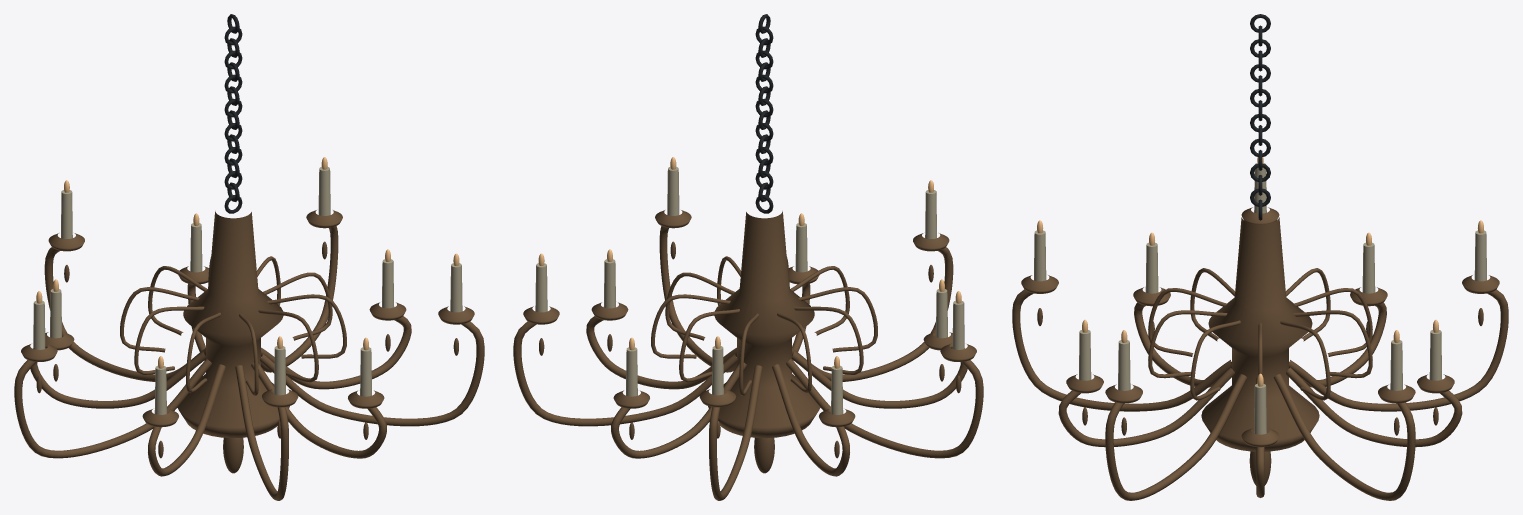
Rendered from aged-chandelier.glb.
The picture shows the model from 3 angles, left to right: view 1: azimuth 30°, elevation 25°; view 2: azimuth 150°, elevation 25°; view 3: azimuth 270°, elevation 25°; orthographic projection. The views are drawn at different scales.
Visible parts, largest first — view 1: curved-candle-arm (×10), aged-chandelier; view 2: curved-candle-arm (×10), aged-chandelier; view 3: curved-candle-arm (×10), aged-chandelier.
Part boxes in pixels (<box>): curved-candle-arm (×10): <box>14,157,484,500</box>; aged-chandelier: <box>177,14,289,473</box>; curved-candle-arm (×10): <box>513,157,983,500</box>; aged-chandelier: <box>708,14,820,473</box>; curved-candle-arm (×10): <box>1012,157,1508,500</box>; aged-chandelier: <box>1201,14,1319,485</box>.
Size of the model in its own units: 2 by 2.21 by 2.1.
